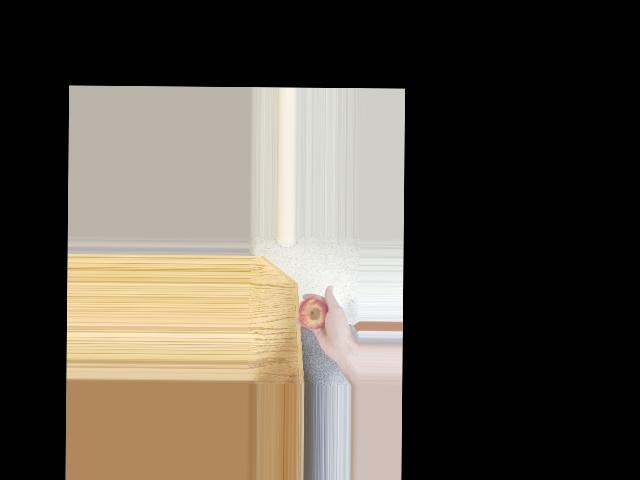apple: (298, 295, 329, 335)
